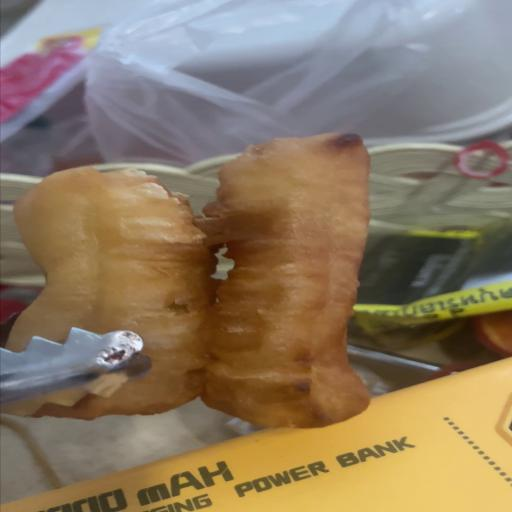street_burnt_defect: (1, 133, 370, 428)
